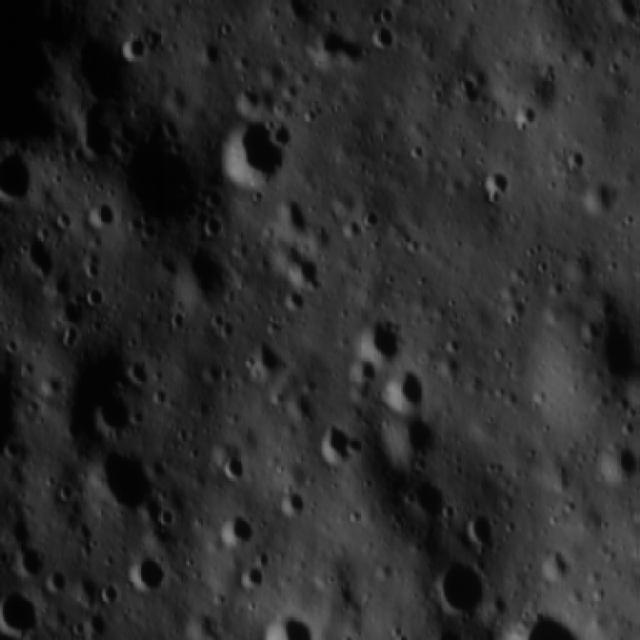crater: (123, 130, 206, 228), (88, 446, 167, 522), (212, 116, 292, 186), (170, 238, 233, 307), (430, 554, 490, 617), (504, 600, 594, 640), (65, 93, 120, 156), (71, 35, 132, 90), (390, 413, 448, 469), (591, 426, 640, 492), (317, 418, 368, 472), (22, 228, 68, 284), (120, 552, 178, 596), (356, 310, 406, 361), (380, 361, 429, 410), (582, 173, 626, 225), (410, 472, 452, 526), (0, 148, 42, 201), (0, 589, 43, 640), (277, 188, 317, 240), (244, 333, 290, 378), (93, 390, 136, 438), (482, 158, 523, 204), (258, 609, 318, 640), (223, 510, 266, 552), (507, 96, 550, 136), (468, 502, 504, 547), (82, 191, 122, 231), (364, 13, 402, 53), (454, 63, 488, 103), (16, 539, 50, 578), (42, 562, 76, 598), (234, 558, 268, 591), (560, 140, 594, 168), (82, 281, 111, 308), (120, 31, 148, 58), (429, 623, 471, 640)
